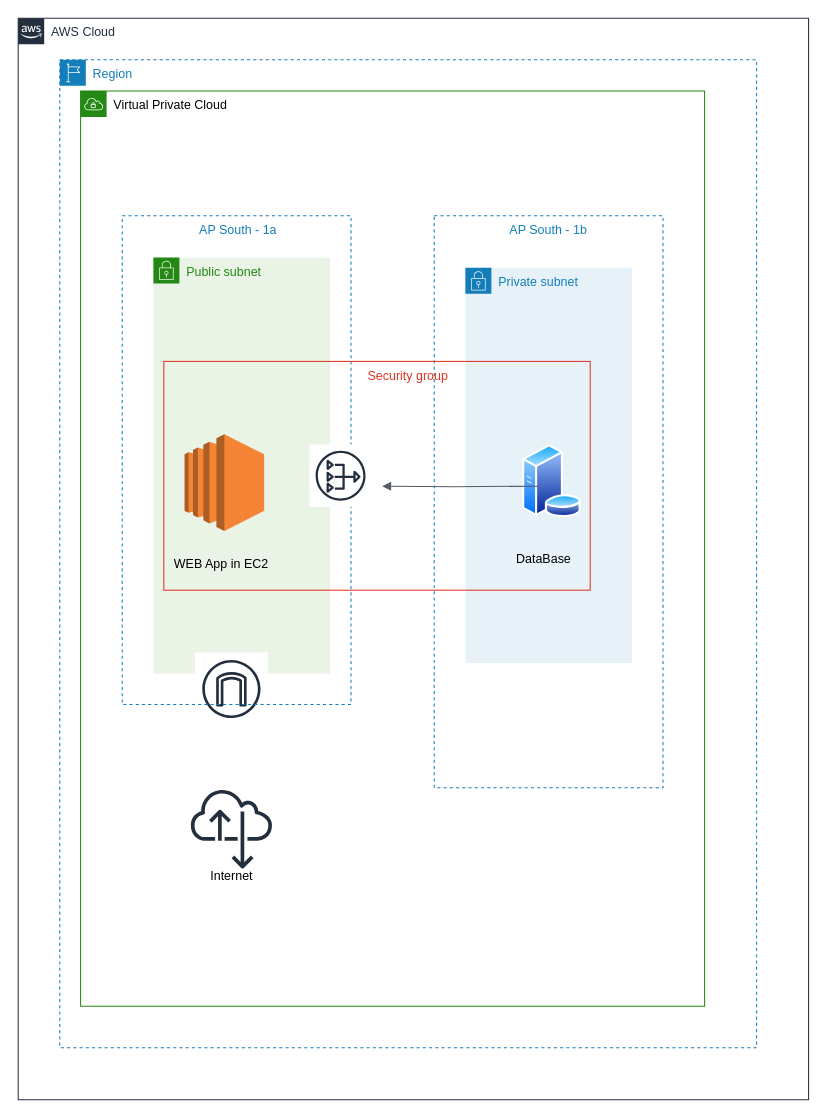
This 827x1118 diagram has some shape labels left out. The centre of each missing label's shape, as x and y in pixels:
"Internet gateway" belongs at point 231,688.
"NAT gateway" belongs at point 340,475.
